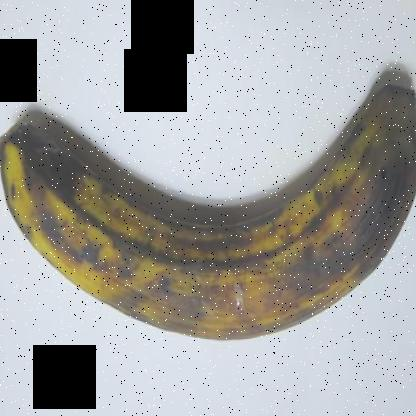overripe: (0, 62, 415, 356)
